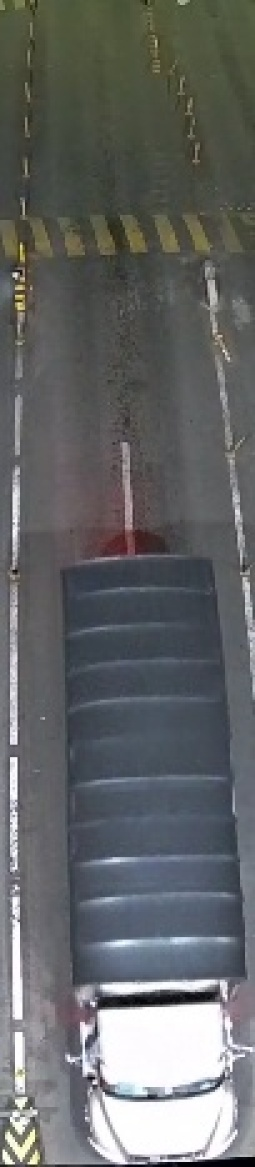truck: (59, 564, 242, 1154)
